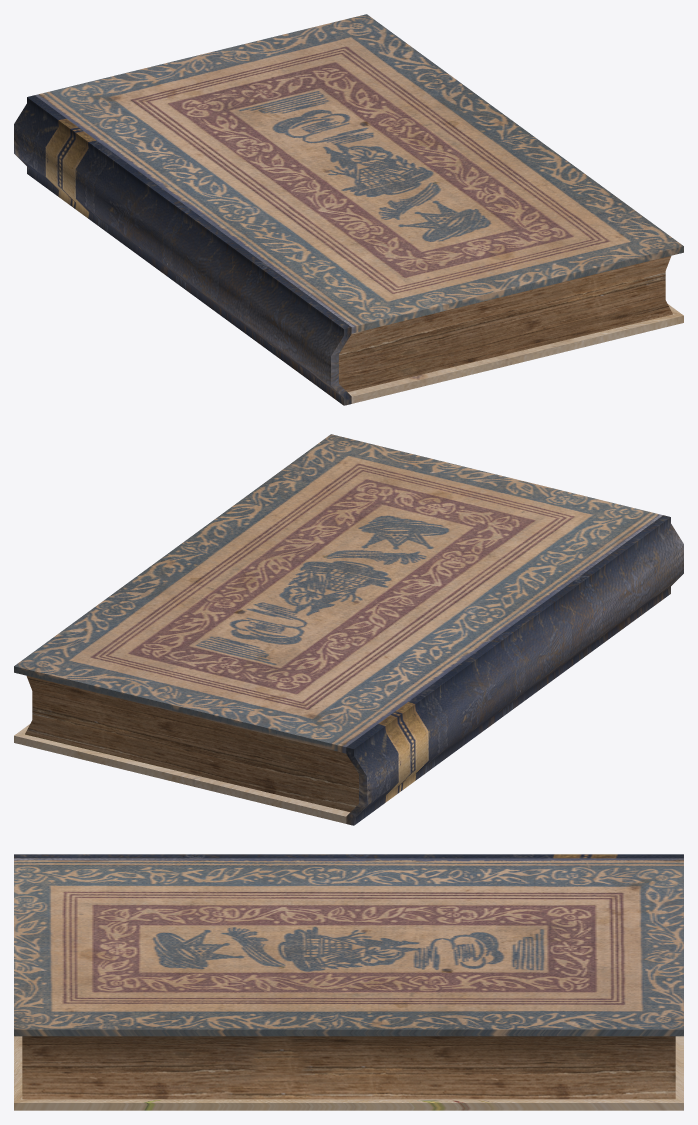
Rendered from book2.FBX.
3 views of the same model, one above another, from view 1: azimuth 30°, elevation 25°; view 2: azimuth 150°, elevation 25°; view 3: azimuth 270°, elevation 25° (orthographic). The views are drawn at different scales.
Visible parts, largest first — view 1: Box001; view 2: Box001; view 3: Box001.
Part boxes in pixels (box(x1,y1,x2,y2)): Box001: box(14, 14, 683, 405); Box001: box(14, 434, 683, 825); Box001: box(14, 854, 683, 1110).
Bounding box in the file's own units: 35.98 × 7.47 × 56.
Materials: 1 (1 with a texture image).
